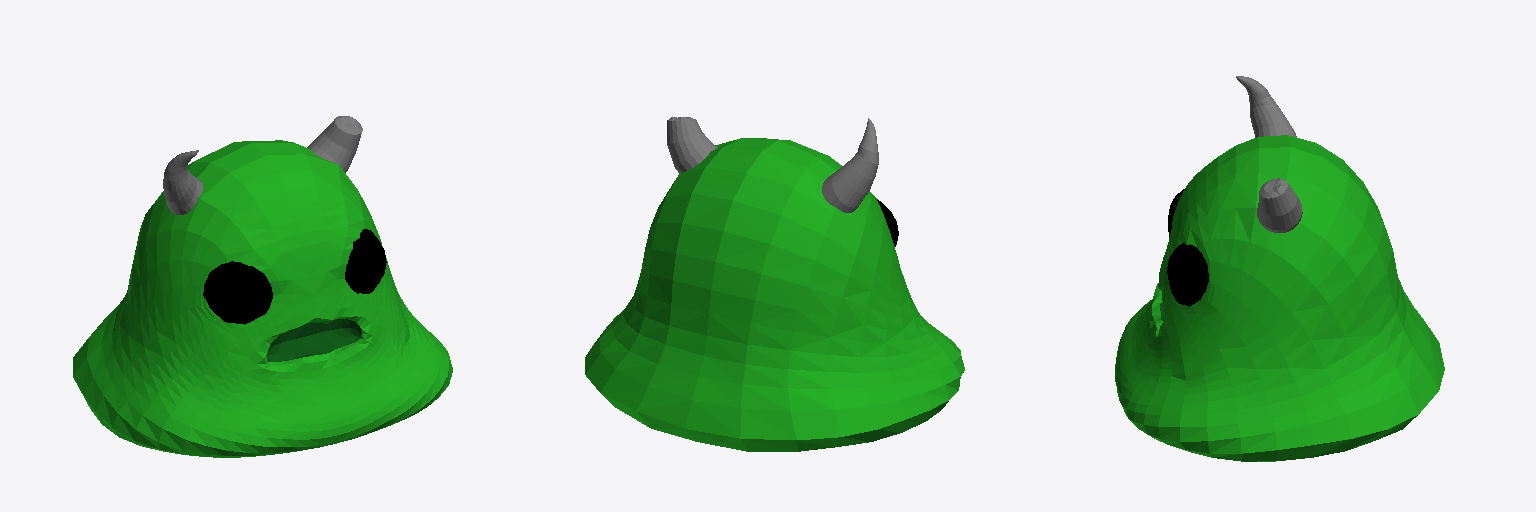
3 renders of one model, left to right at view 1: azimuth 30°, elevation 25°; view 2: azimuth 150°, elevation 25°; view 3: azimuth 270°, elevation 25°, orthographic.
Parts seen in each view (by area): view 1: Swarm_Model; view 2: Swarm_Model; view 3: Swarm_Model.
Part boxes in pixels (x1,y1,x2,y2): Swarm_Model: (73, 116, 452, 457); Swarm_Model: (585, 117, 964, 451); Swarm_Model: (1115, 76, 1444, 461).
Size of the model in its own units: 323 by 269 by 284.
Materials: 1 (1 with a texture image).